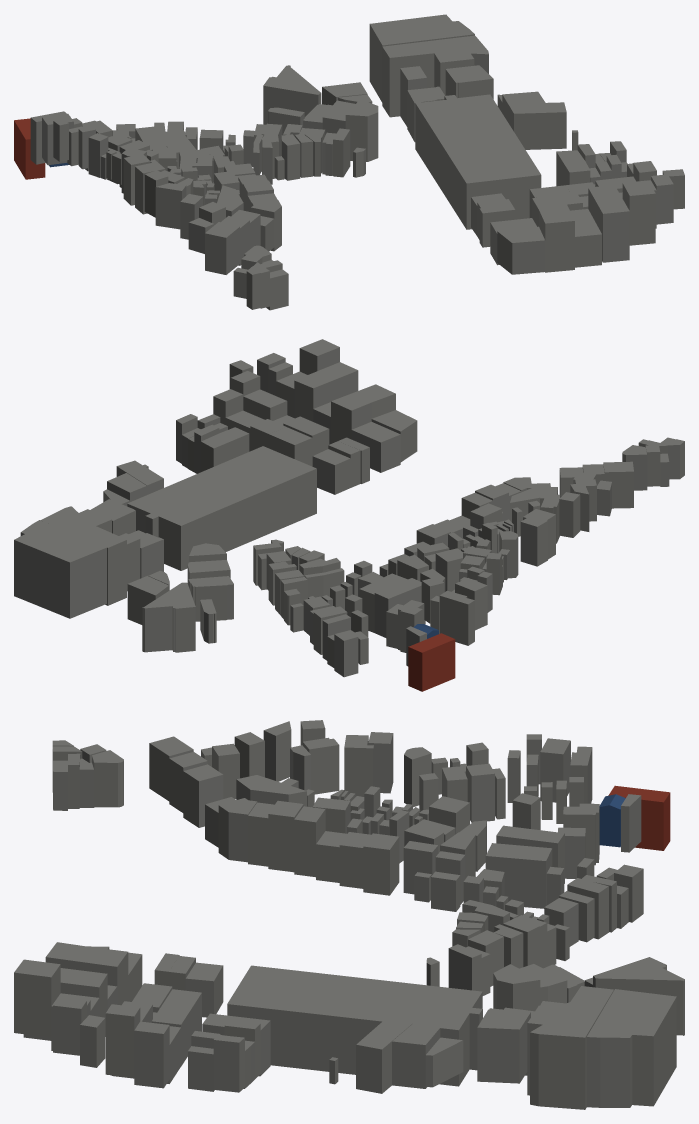
File: near-17-109443-59475.b7299643.glb
3 renders of one model, top to bottom at view 1: azimuth 30°, elevation 25°; view 2: azimuth 150°, elevation 25°; view 3: azimuth 270°, elevation 25°, orthographic. The views are drawn at different scales.
Size of the model in its own units: 302 by 74.69 by 321.
